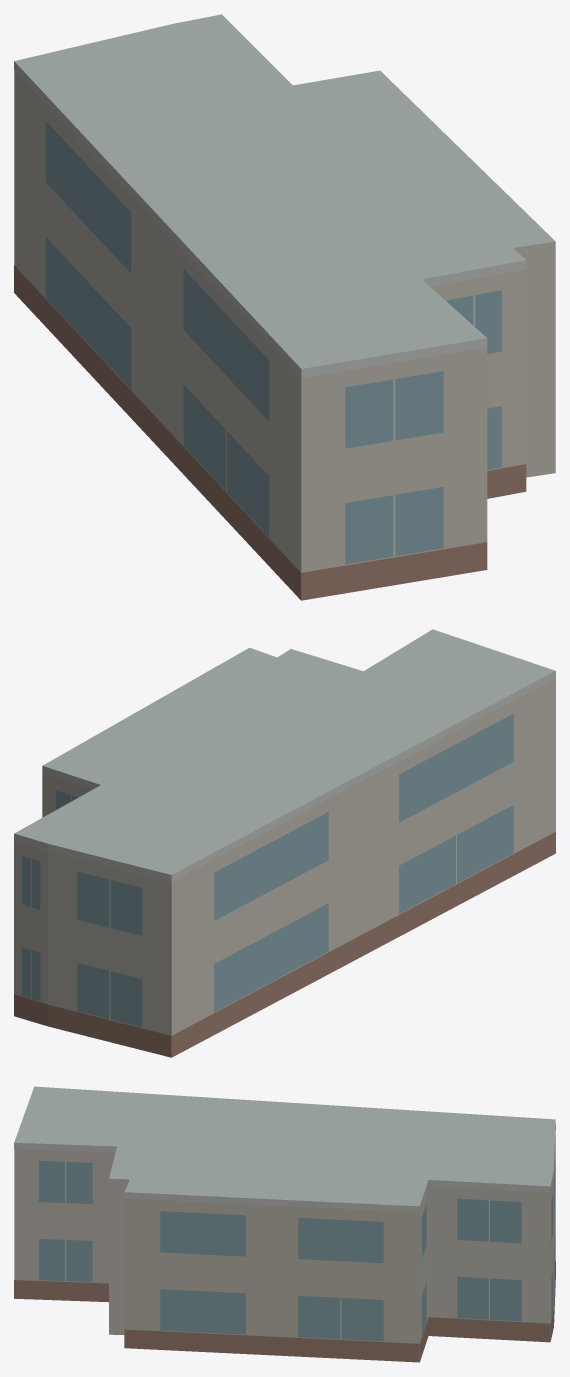
The model's file is survey-upis-32456912.glb.
The picture shows the model from 3 angles, top to bottom: view 1: azimuth 30°, elevation 25°; view 2: azimuth 150°, elevation 25°; view 3: azimuth 270°, elevation 25°; orthographic projection. The views are drawn at different scales.
Parts seen in each view (by area): view 1: survey-upis-32456912.tmp; view 2: survey-upis-32456912.tmp; view 3: survey-upis-32456912.tmp.
Part boxes in pixels (<box>): survey-upis-32456912.tmp: <box>14,14,555,600</box>; survey-upis-32456912.tmp: <box>14,629,555,1057</box>; survey-upis-32456912.tmp: <box>14,1086,555,1362</box>.
Size of the model in its own units: 10.07 by 6.1 by 19.21.
